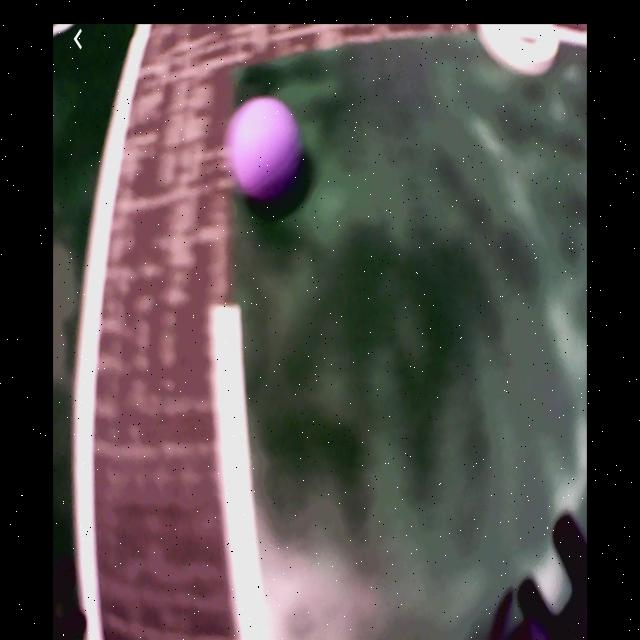ball: (230, 99, 302, 201)
